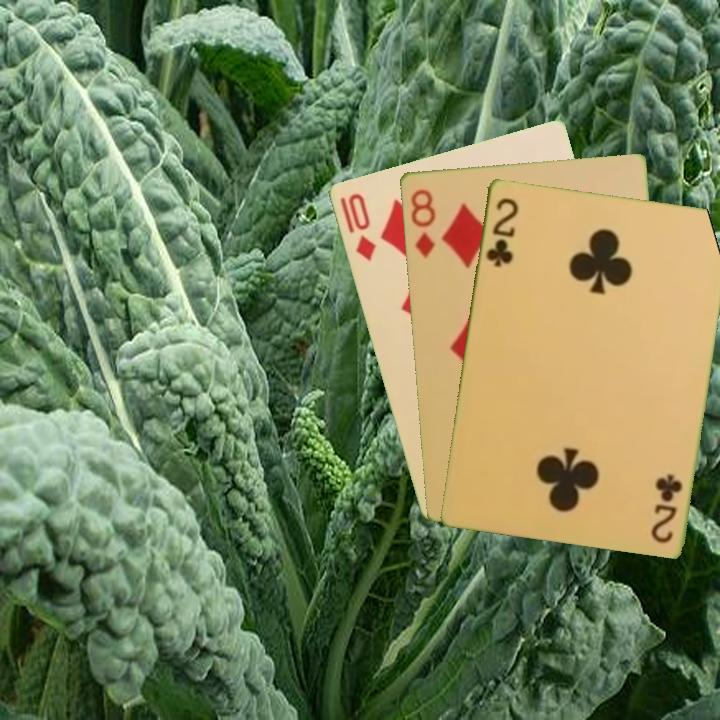10d: (344, 189, 379, 263)
2c: (482, 193, 521, 269), (648, 470, 685, 546)
8d: (406, 185, 438, 261)
